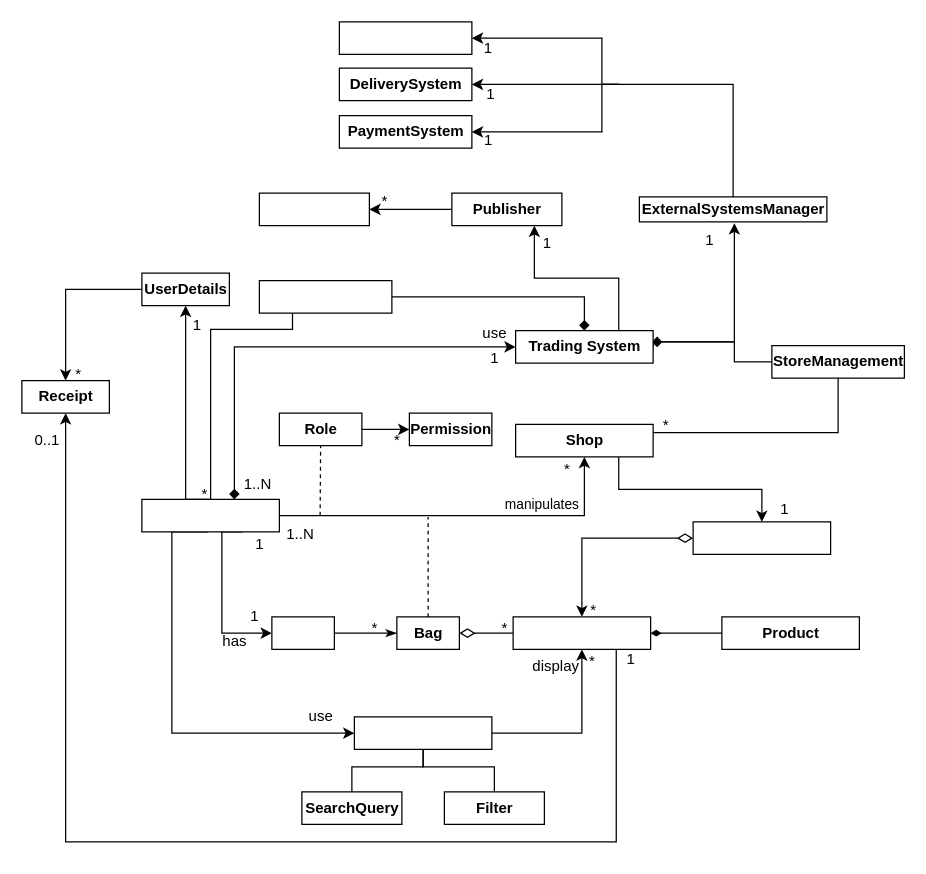
Image size: 926x874. Some labels were removed from this diagram. The shapes that lost their labels are listed below. From the top down, each one's centre as x and y in pixels, then its label:
At (405,37): "Security".
At (313,209): "Subscriber".
At (325,296): "UserManager".
At (210,515): "User".
At (761,537): "Inventory".
At (302,632): "Cart".
At (581,632): "Item".
At (422,732): "SearchEngine".
